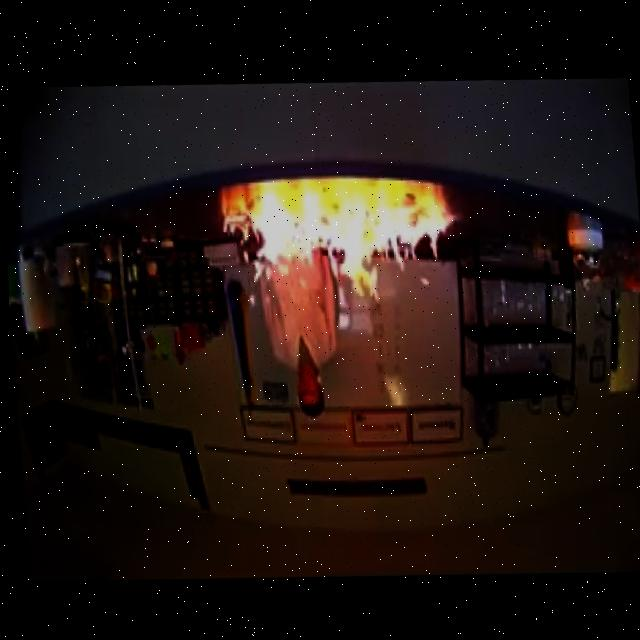Fire: (216, 194, 469, 300)
